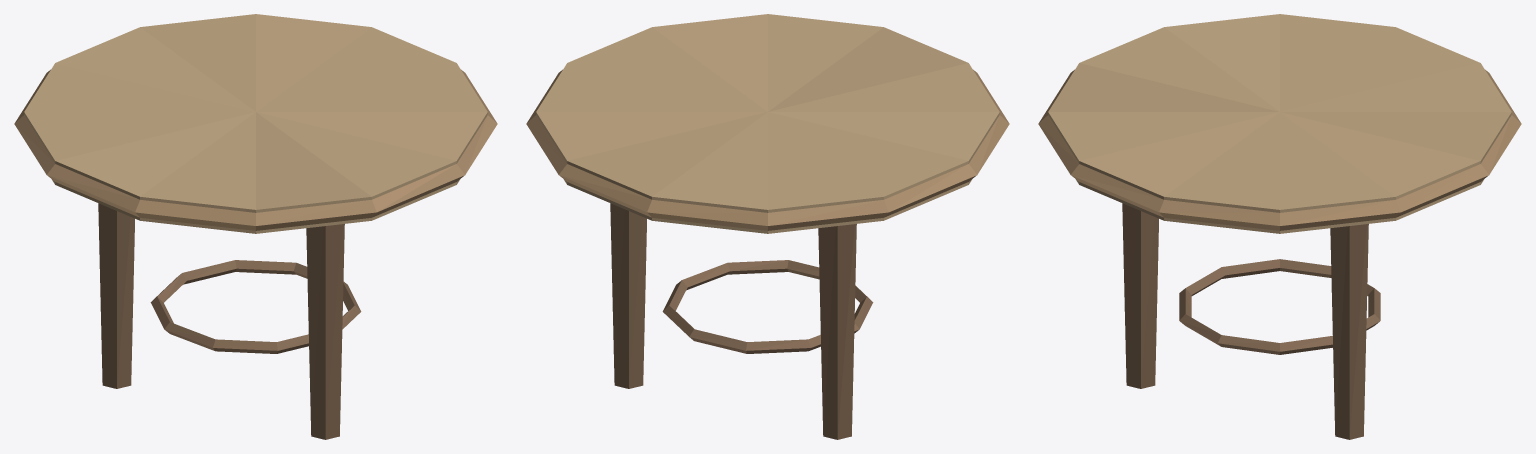
The model's file is table_round.glb.
3 renders of one model, left to right at view 1: azimuth 30°, elevation 25°; view 2: azimuth 150°, elevation 25°; view 3: azimuth 270°, elevation 25°, orthographic.
Parts seen in each view (by area): view 1: table_round; view 2: table_round; view 3: table_round.
Boxes of the visible parts, x1,y1,x2,y2 form: table_round: [14, 14, 497, 439]; table_round: [526, 14, 1009, 439]; table_round: [1038, 14, 1521, 439].
Size of the model in its own units: 1.46 by 0.9 by 1.46.
